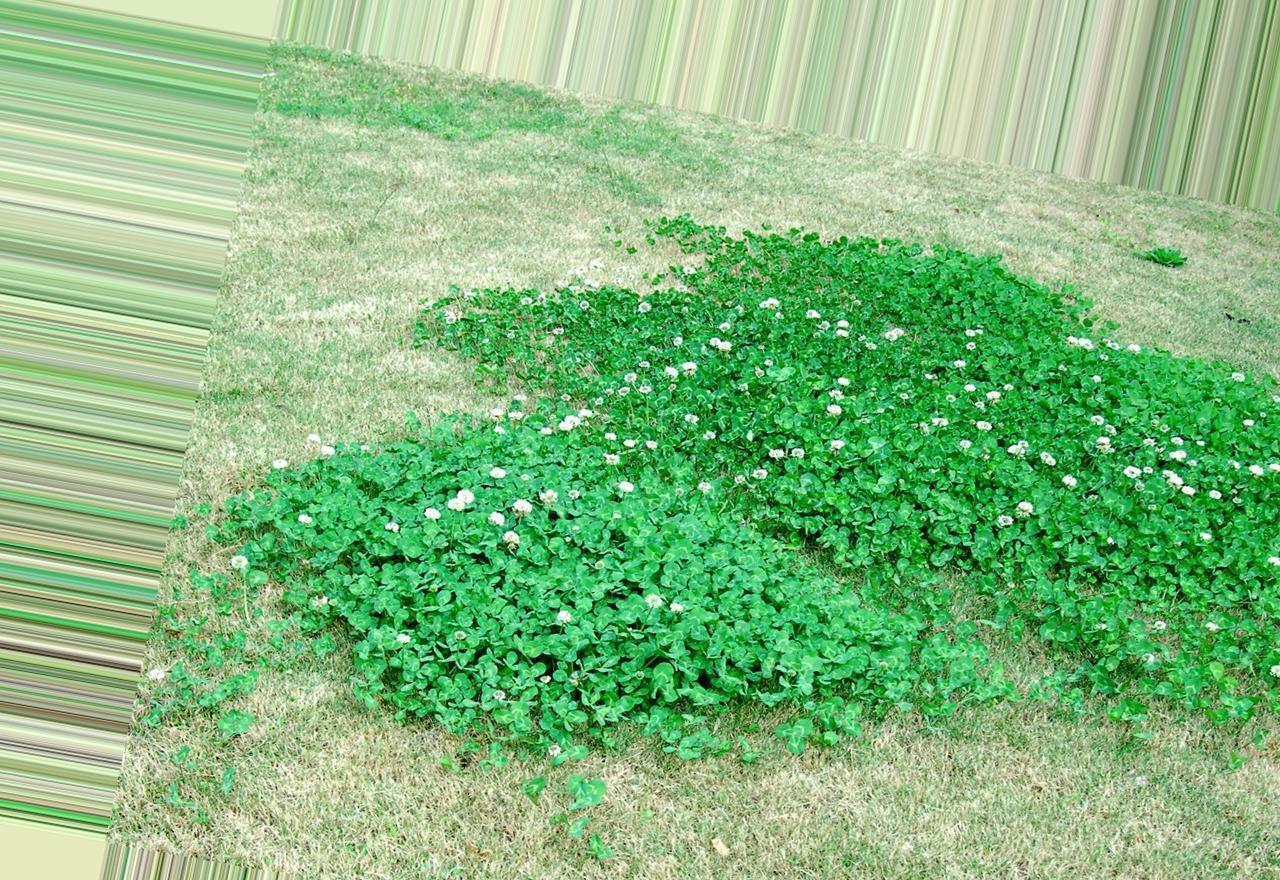patch: (251, 739, 427, 873), (481, 159, 588, 259), (364, 149, 442, 247)
